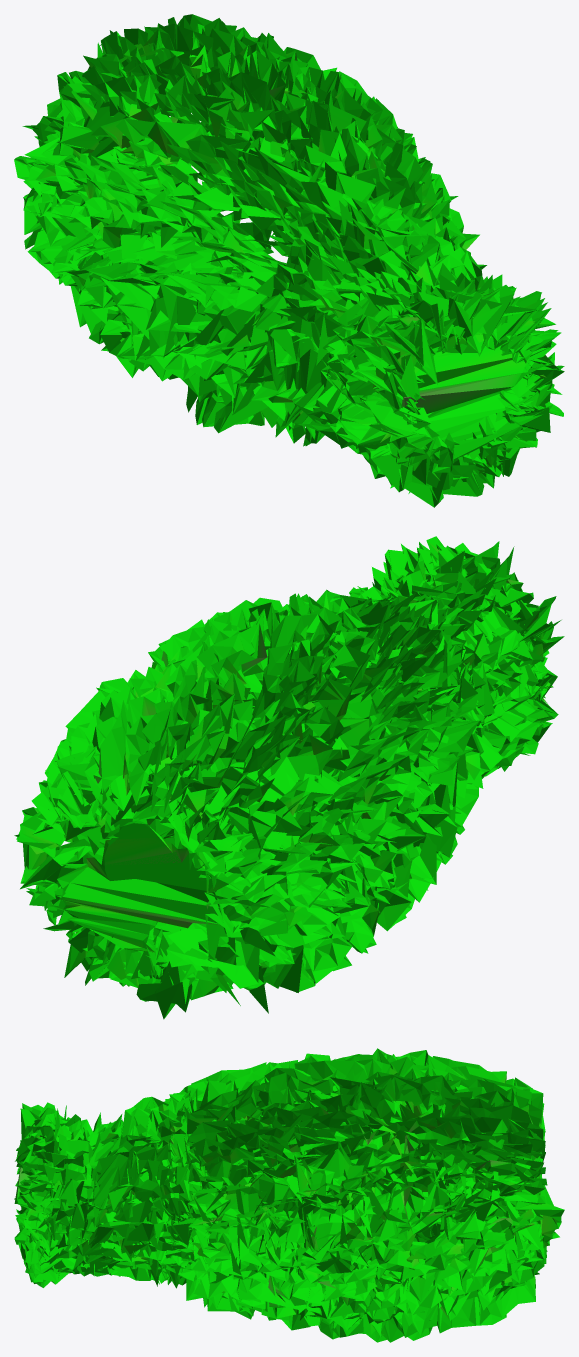
The model's file is lamp_shade_10_final100.obj.
3 views of the same model, one above another, from view 1: azimuth 30°, elevation 25°; view 2: azimuth 150°, elevation 25°; view 3: azimuth 270°, elevation 25° (orthographic). The views are drawn at different scales.
Bounding box in the file's own units: 1.01 × 1 × 1.91.
